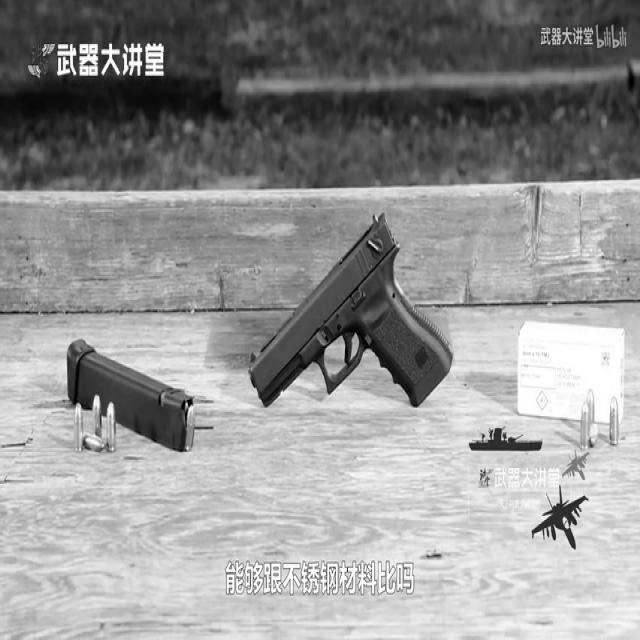Hand-Gun: (201, 187, 490, 574)
